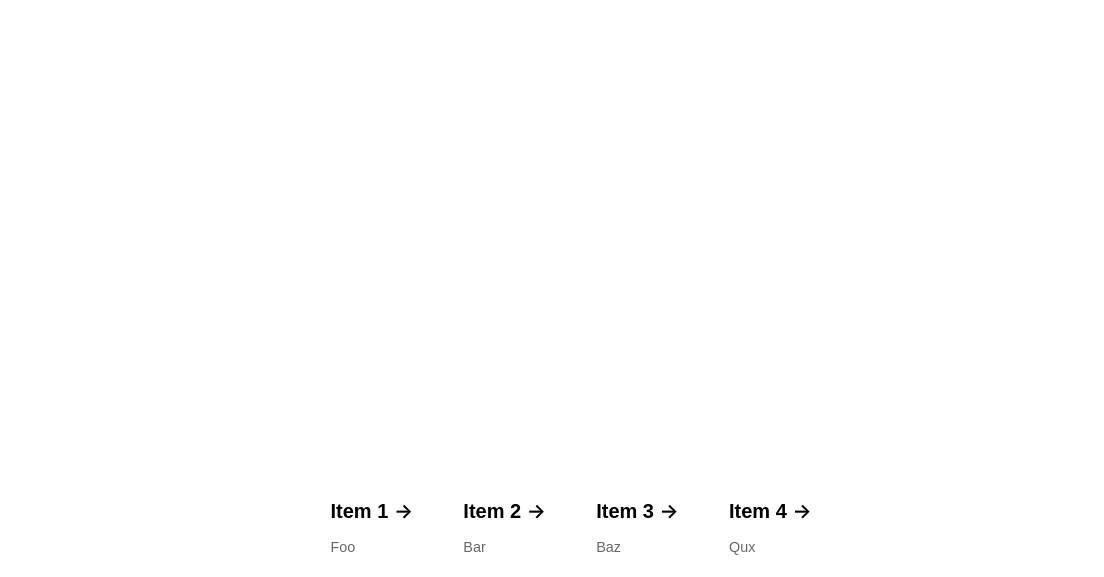
Test case: Home › increments the basket items counter when an item is added to the basket
(page scrolled)
What coordinates should you click on to do the following:
click the button "Item 1 -> Foo"
I would click on:
 (372, 528)
Its box is [324,495,419,560].
(page scrolled)
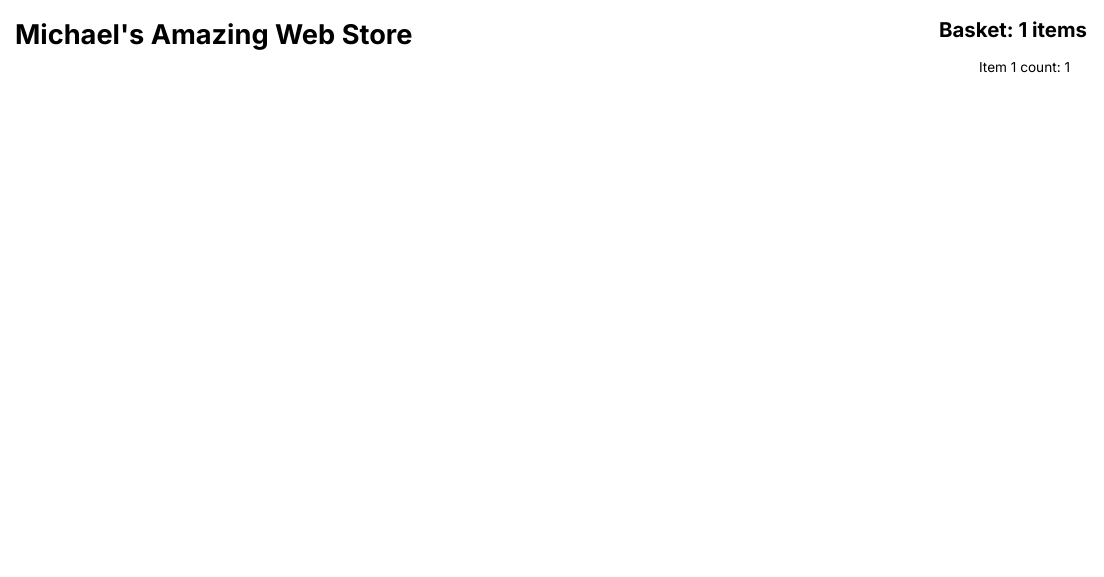
Check: the heading "Basket: 1 items" is shown, box [939,17,1087,42]
